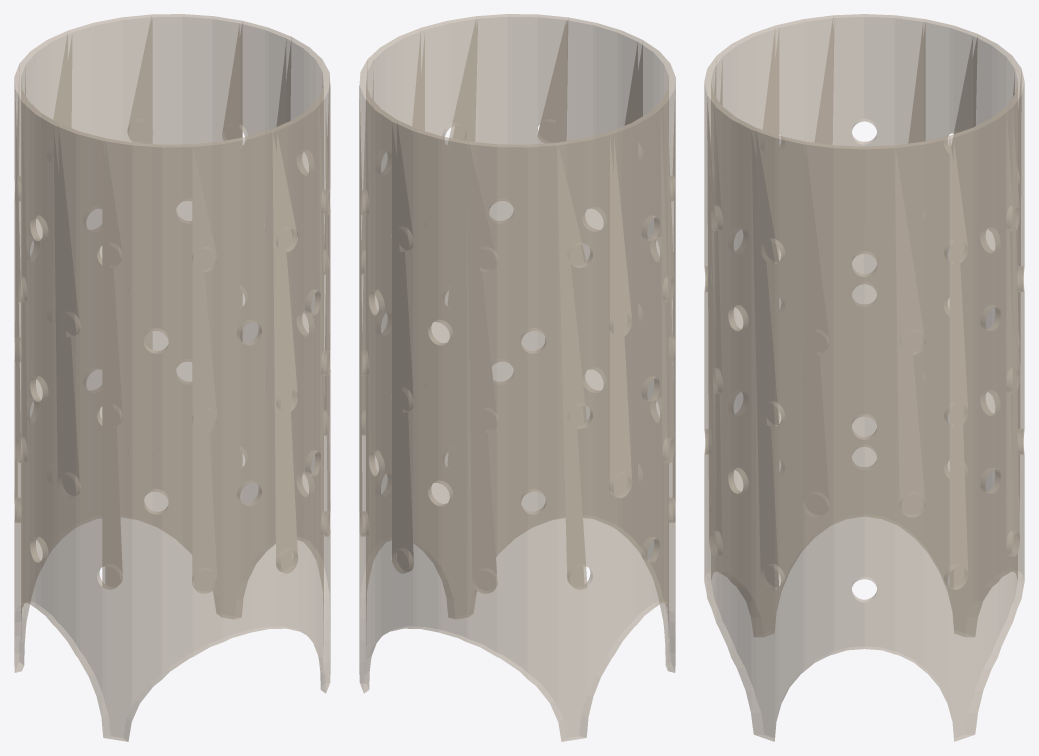
The model's file is TableroMonkyLocuron.fbx.
3 renders of one model, left to right at view 1: azimuth 30°, elevation 25°; view 2: azimuth 150°, elevation 25°; view 3: azimuth 270°, elevation 25°, orthographic.
Parts seen in each view (by area): view 1: Cylinder; view 2: Cylinder; view 3: Cylinder.
Part boxes in pixels (x1,y1,x2,y2): Cylinder: [14, 14, 330, 741]; Cylinder: [359, 14, 675, 741]; Cylinder: [704, 14, 1024, 741].
Size of the model in its own units: 2500 by 5200 by 2500.
